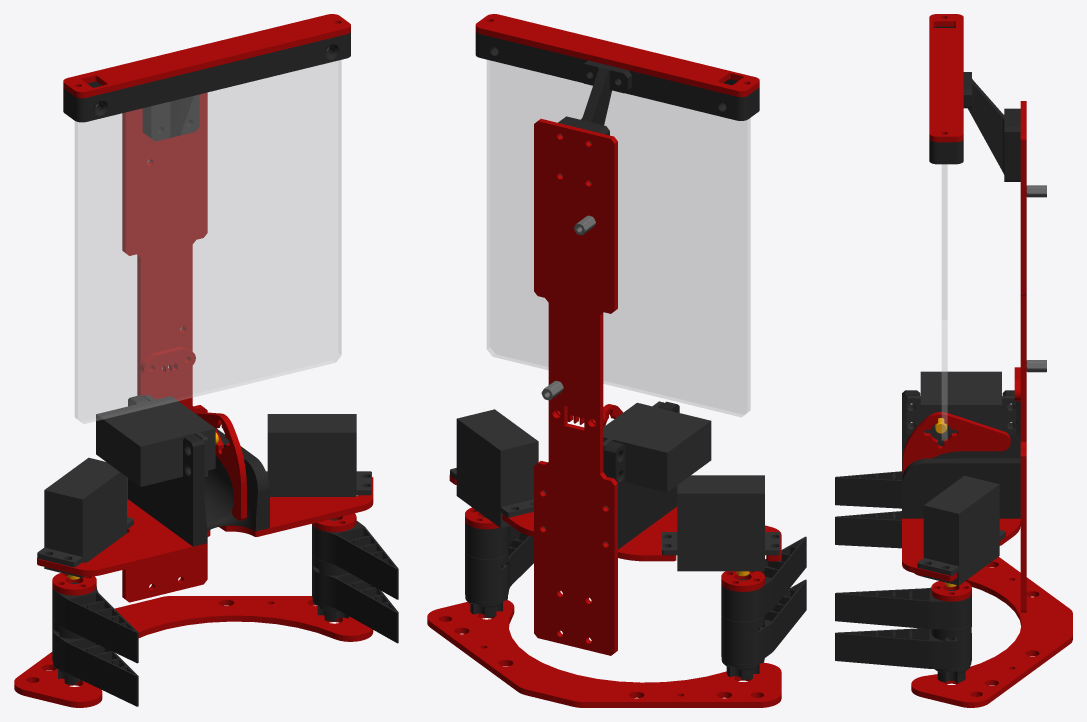
The model's file is cake-actuator.glb.
The picture shows the model from 3 angles, left to right: view 1: azimuth 30°, elevation 25°; view 2: azimuth 150°, elevation 25°; view 3: azimuth 270°, elevation 25°; orthographic projection. The views are drawn at different scales.
Visible parts, largest first — view 1: PlaqueDeguisement, PlaqueVerticale, OutilSemelle, GuideBalle, ServoBody001, RegletteLed, PlaqueSupport, CouvercleLed, ServoBody001_30, ServoBody001_54, AdaptativeGripper_1, AdaptativeGripper_59 (+9 smaller); view 2: PlaqueDeguisement, PlaqueVerticale, OutilSemelle, ServoBody001, CouvercleLed, RegletteLed, ServoBody001_32, GuideBalle, ServoBody001_54, Spacer127d, PlaqueSupport, ServoBody001_31 (+12 smaller); view 3: OutilSemelle, GuideBalle, CouvercleLed, PlaqueVerticale, Spacer127d, Trappe, ServoBody001_32, ServoBody001_54, AdaptativeGripper_117, AdaptativeGripper_175, ServoBody001_40, AdaptativeGripper_5 (+15 smaller).
Boxes of the visible parts, left/top/right/bottom form: PlaqueDeguisement: left=75, top=48, right=341, bottom=423; PlaqueVerticale: left=122, top=92, right=207, bottom=602; OutilSemelle: left=14, top=596, right=373, bottom=707; GuideBalle: left=128, top=395, right=269, bottom=546; ServoBody001: left=37, top=457, right=133, bottom=577; RegletteLed: left=63, top=32, right=350, bottom=122; PlaqueSupport: left=37, top=477, right=373, bottom=576; CouvercleLed: left=63, top=14, right=350, bottom=98; ServoBody001_30: left=267, top=432, right=369, bottom=496; ServoBody001_54: left=96, top=395, right=215, bottom=446; AdaptativeGripper_1: left=69, top=644, right=136, bottom=706; AdaptativeGripper_59: left=69, top=600, right=136, bottom=662; PlaqueDeguisement: left=487, top=60, right=750, bottom=417; PlaqueVerticale: left=534, top=119, right=617, bottom=655; OutilSemelle: left=427, top=600, right=781, bottom=707; ServoBody001: left=662, top=475, right=780, bottom=571; CouvercleLed: left=475, top=14, right=759, bottom=97; RegletteLed: left=475, top=32, right=759, bottom=120; ServoBody001_32: left=450, top=419, right=507, bottom=527; GuideBalle: left=543, top=401, right=679, bottom=549; ServoBody001_54: left=603, top=401, right=710, bottom=452; Spacer127d: left=558, top=60, right=631, bottom=183; PlaqueSupport: left=449, top=475, right=781, bottom=561; ServoBody001_31: left=500, top=441, right=538, bottom=507; OutilSemelle: left=911, top=556, right=1072, bottom=707; GuideBalle: left=902, top=390, right=1020, bottom=518; CouvercleLed: left=929, top=14, right=963, bottom=142; PlaqueVerticale: left=1020, top=101, right=1026, bottom=612; Spacer127d: left=963, top=72, right=1020, bottom=181; Trappe: left=902, top=412, right=1010, bottom=474; ServoBody001_32: left=953, top=484, right=1005, bottom=585; ServoBody001_54: left=908, top=371, right=1014, bottom=404; AdaptativeGripper_117: left=836, top=633, right=927, bottom=668; AdaptativeGripper_175: left=836, top=593, right=927, bottom=628; ServoBody001_40: left=923, top=505, right=958, bottom=566; AdaptativeGripper_5: left=836, top=517, right=901, bottom=548.
Size of the model in its own units: 0.1834 by 0.301 by 0.1171.
